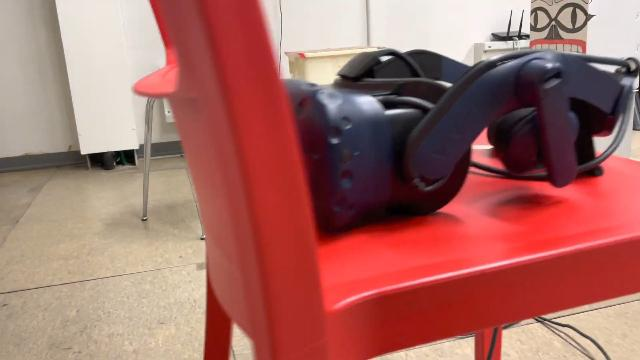Chair: (126, 0, 640, 360)
Stool: (138, 85, 216, 245)
